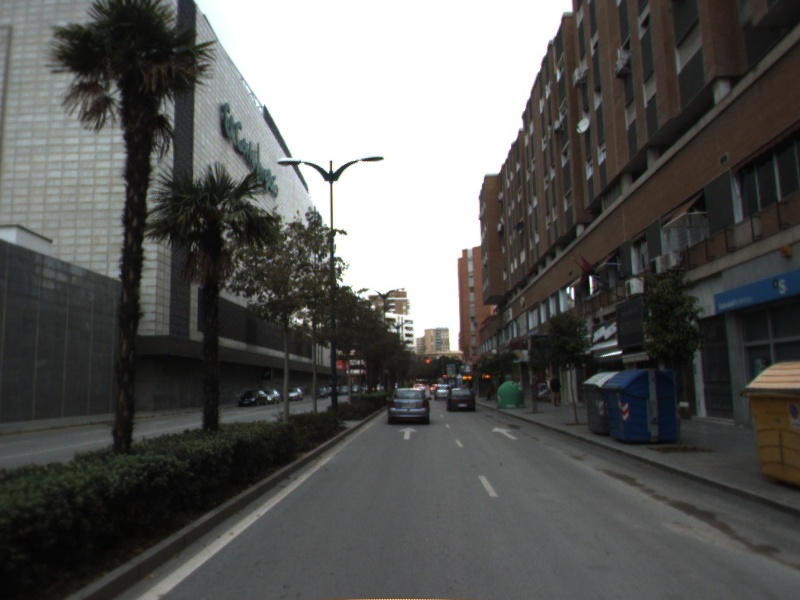STRAIGHT: (489, 425, 521, 442), (396, 425, 420, 442)
